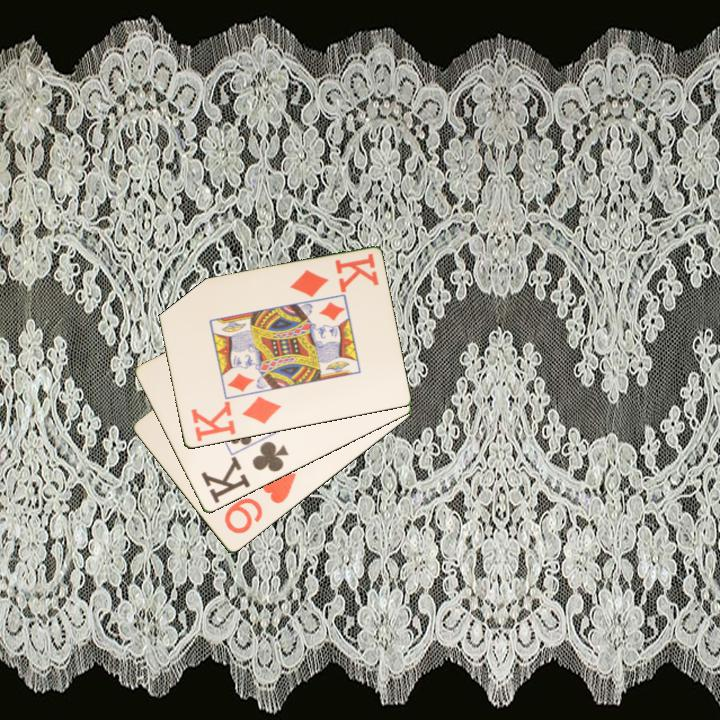9h: (220, 469, 299, 537)
Kc: (197, 438, 291, 507)
Kd: (187, 393, 284, 444), (286, 250, 381, 300)
